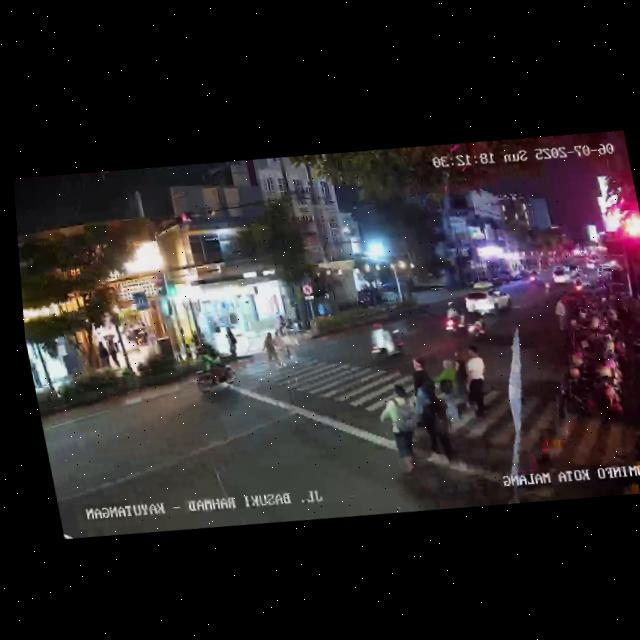car: (461, 279, 516, 319), (549, 262, 578, 285)
motorcycle: (188, 344, 239, 400), (363, 317, 409, 366), (440, 300, 468, 338), (462, 308, 489, 343), (539, 272, 555, 296)
person: (380, 381, 424, 475), (408, 376, 449, 463), (461, 344, 495, 419), (428, 357, 465, 425), (450, 346, 474, 410), (407, 355, 434, 396), (552, 294, 575, 340), (258, 329, 281, 370), (281, 326, 303, 364), (271, 330, 288, 367), (94, 337, 112, 370), (224, 324, 240, 358), (107, 335, 122, 370), (29, 356, 42, 390)
